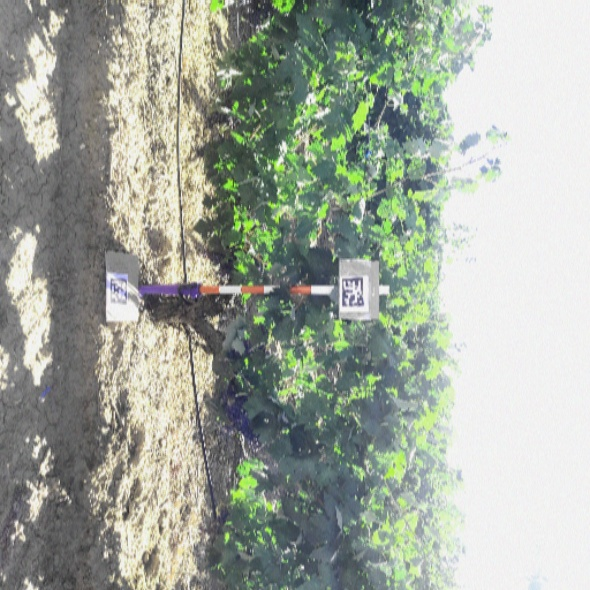QR: (341, 275, 364, 307), (110, 277, 127, 302)
